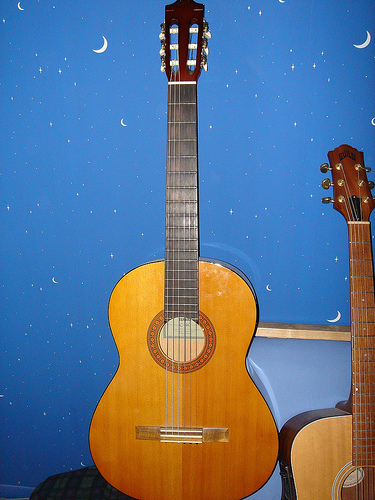guitar: (86, 1, 279, 500)
